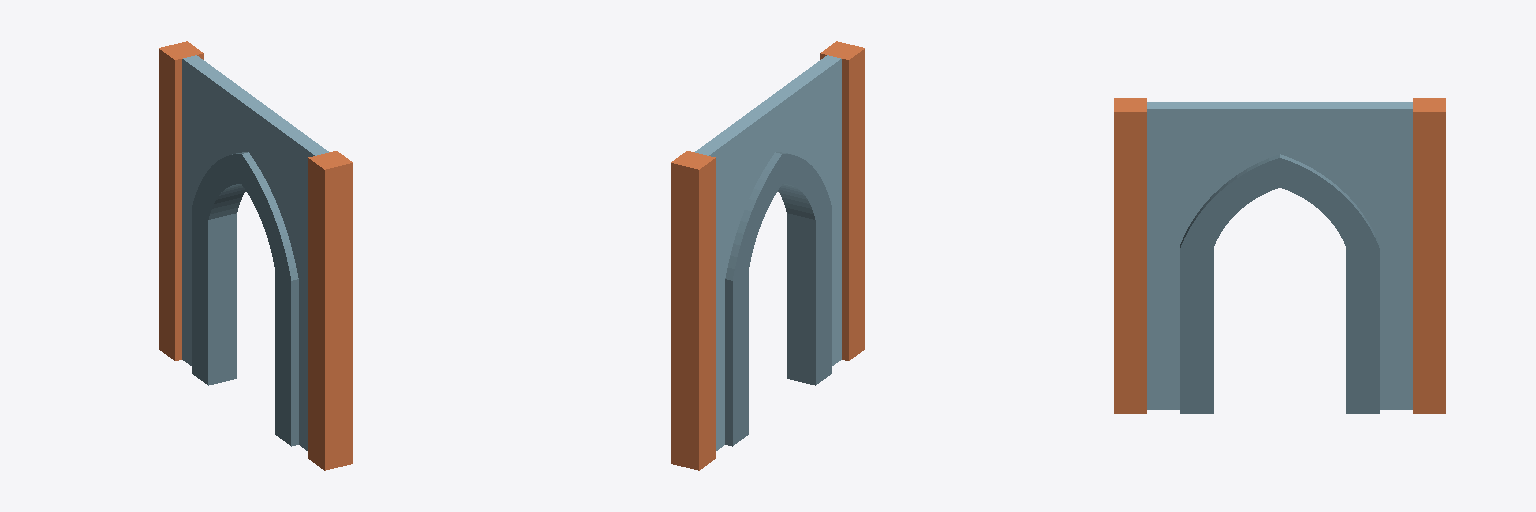
File: wallDoorwayRound.obj
The picture shows the model from 3 angles: view 1: azimuth 30°, elevation 25°; view 2: azimuth 150°, elevation 25°; view 3: azimuth 270°, elevation 25°; orthographic projection.
Visible parts, largest first — view 1: wallDoorwayRound; view 2: wallDoorwayRound; view 3: wallDoorwayRound.
Boxes of the visible parts, x1,y1,x2,y2 form: wallDoorwayRound: [159, 41, 352, 470]; wallDoorwayRound: [671, 41, 864, 470]; wallDoorwayRound: [1114, 98, 1445, 413].
Bounding box in the file's own units: 0.1 × 1 × 1.